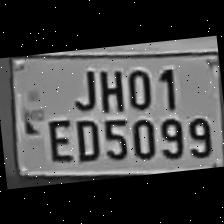0: (120, 60, 155, 110), (125, 113, 157, 162)
1: (150, 58, 182, 111)
5: (96, 112, 130, 162)
9: (182, 110, 216, 160), (154, 112, 186, 160)
D: (69, 112, 102, 162)
E: (41, 113, 74, 165)
H: (94, 61, 125, 113)
J: (66, 63, 100, 113)
